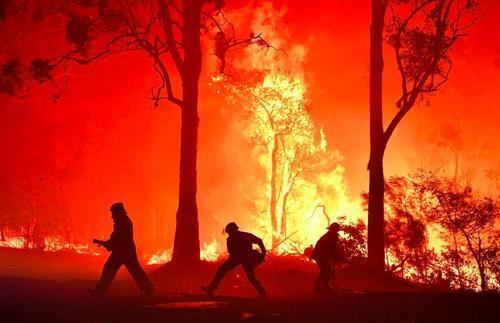fire: (237, 51, 350, 243), (385, 163, 498, 288), (198, 237, 225, 262)
smoke: (11, 38, 233, 218), (360, 20, 499, 156)
